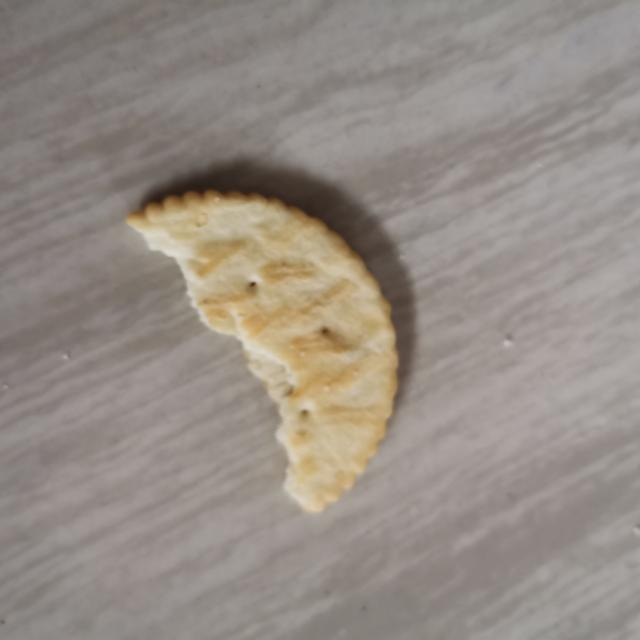Broken: (124, 187, 400, 514)
